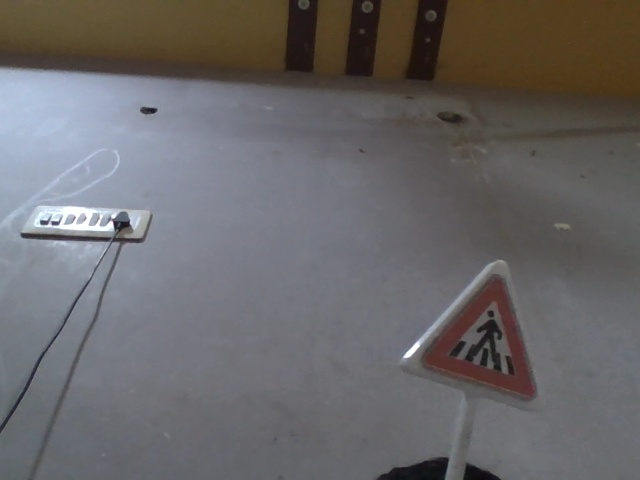crossing: (406, 276, 553, 427)
